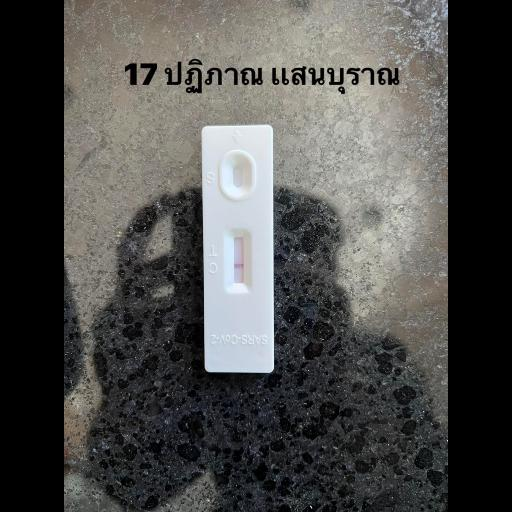Neg: (200, 126, 274, 376)
